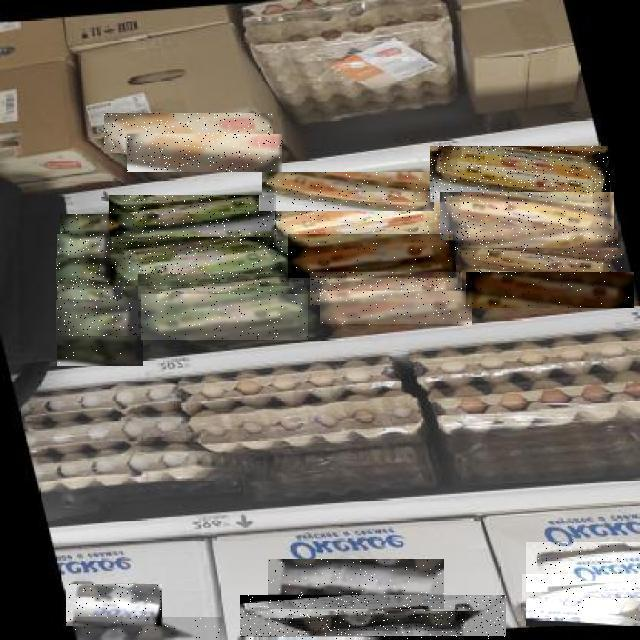Eggs: (240, 596, 506, 640), (430, 146, 610, 202), (274, 192, 449, 246), (268, 559, 444, 612), (111, 237, 289, 286), (440, 192, 614, 240), (142, 295, 310, 341), (289, 234, 457, 278), (104, 113, 273, 153), (263, 172, 435, 211), (110, 214, 276, 254), (139, 274, 305, 311), (466, 272, 634, 308), (110, 195, 276, 231), (459, 248, 625, 284), (453, 229, 618, 265), (128, 134, 284, 172), (526, 542, 640, 592), (522, 574, 640, 618), (320, 292, 472, 326), (310, 272, 462, 305), (66, 585, 162, 627), (73, 617, 222, 640), (56, 300, 138, 340), (526, 599, 640, 627), (57, 336, 143, 366), (58, 280, 126, 308), (57, 234, 115, 261), (56, 258, 116, 284), (61, 214, 117, 238)
